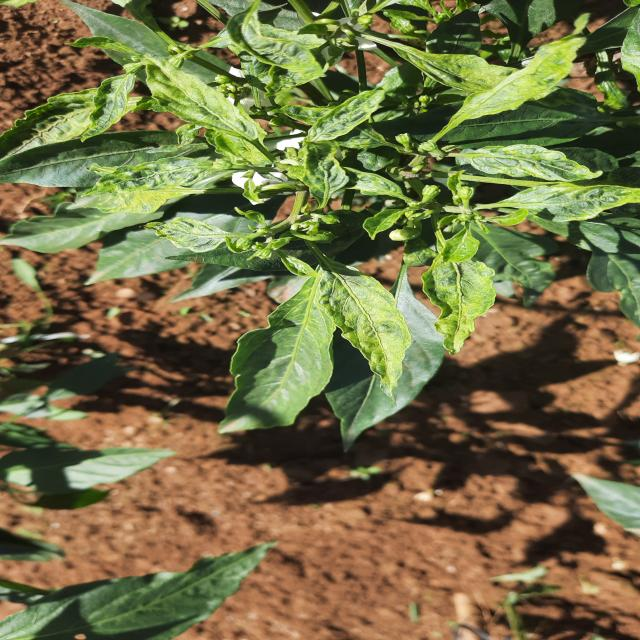thrips: (310, 268, 444, 390), (416, 222, 524, 344), (51, 163, 276, 219), (298, 68, 424, 150), (444, 134, 612, 182), (461, 185, 640, 222)
